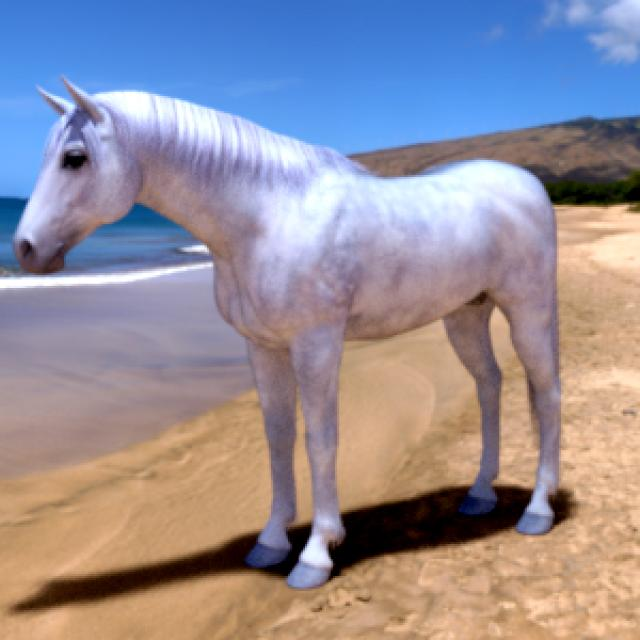horse: (15, 81, 560, 587)
